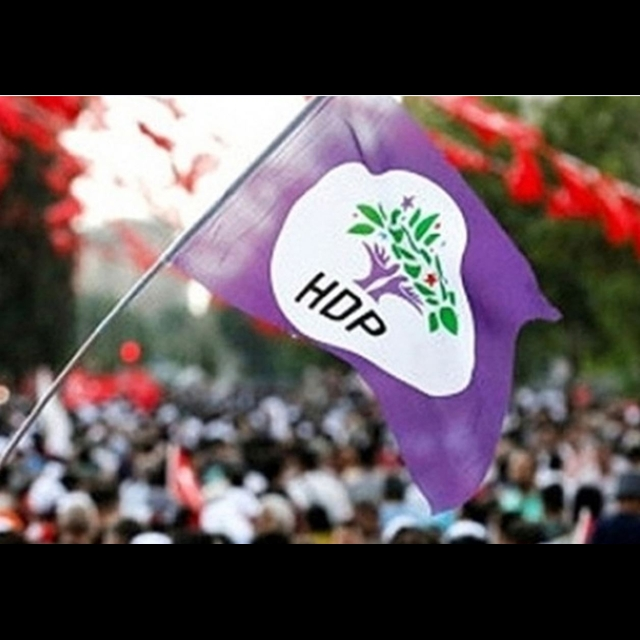HDP: (347, 188, 470, 339)
